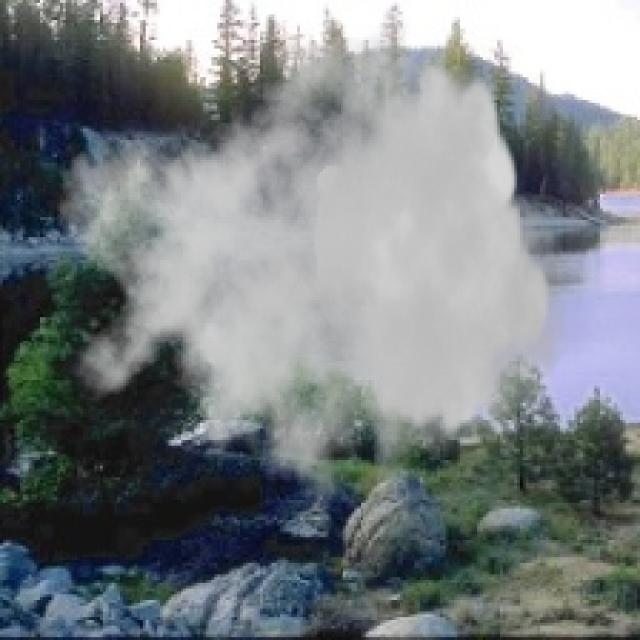smoke: (54, 9, 569, 540)
